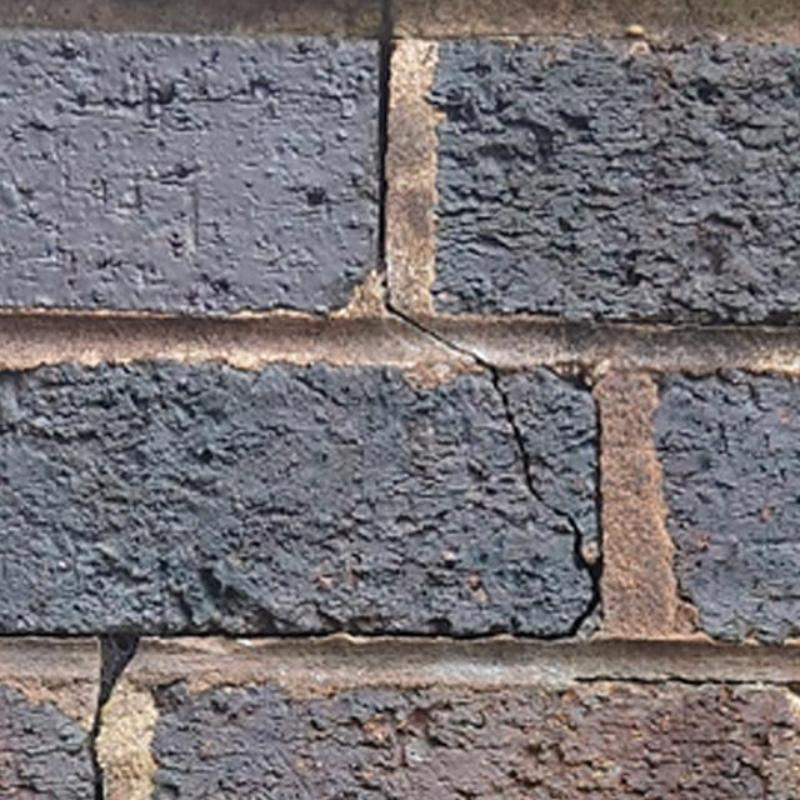crack: (88, 0, 604, 800)
